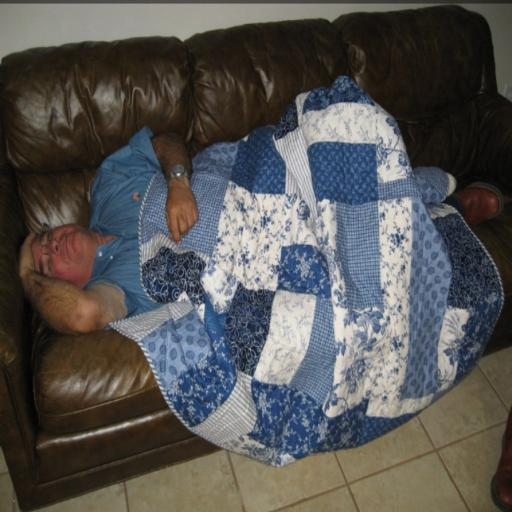hole: (0, 5, 512, 509)
